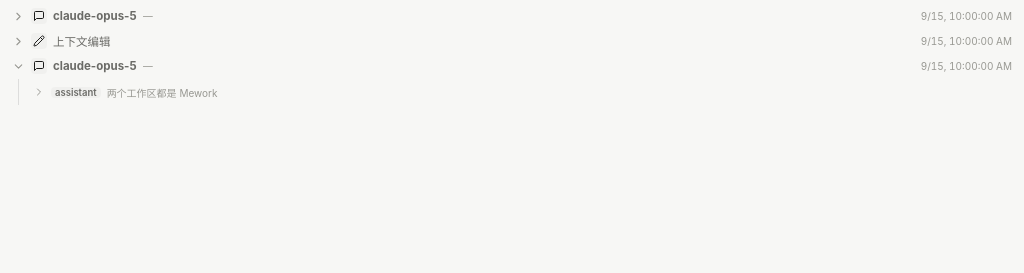
Scenario: HistoryPane › stands the user's edits between turns as a bar of their own, with the message a deletion took away
The width and height of the screenshot is (1024, 273).
Click the button with class "history-pane__row--round" showing "上下文编辑 9/15, 10:00:00 AM" at (82,42), box [6,29,1018,53]
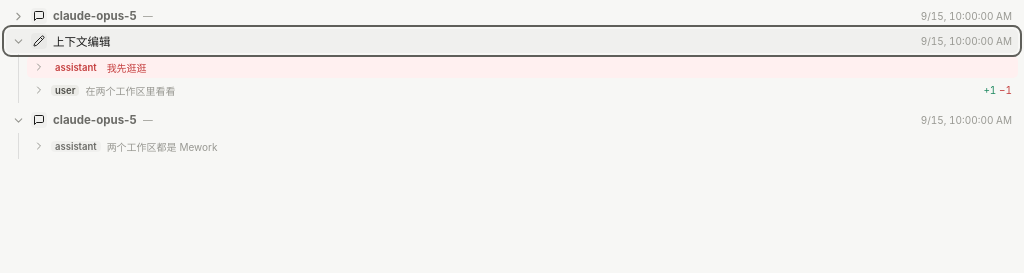
Now the 1st text "assistant" is shown, box [55,62,97,72]
Now the element with class "history-pane__stat" reads "+1 −1", box [983,84,1012,96]
Click the button "user 在两个工作区里看看 +1 −1" at (130,90), box [27,79,1018,101]
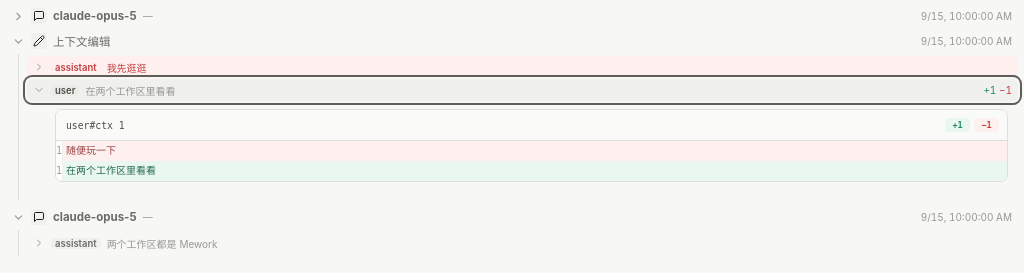
Now the element with class "history-pane__diff" shows "随便玩一下", box [66,145,116,156]
